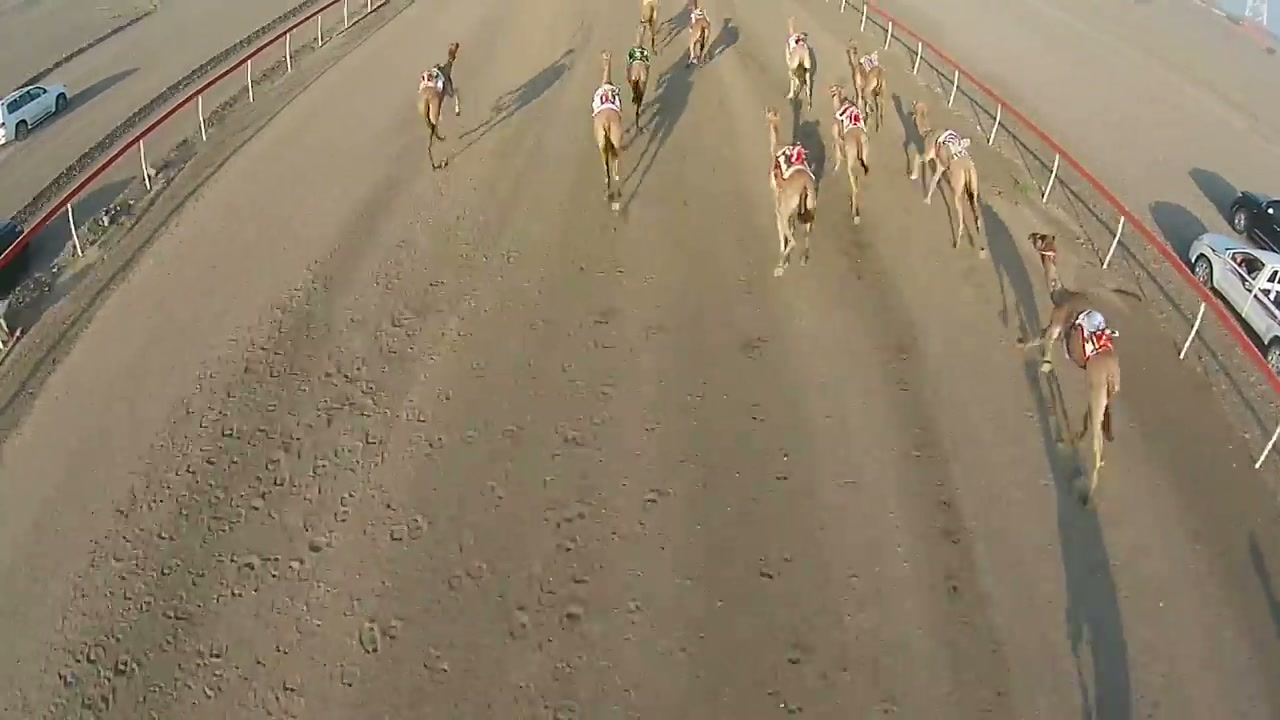animal_footprint: (38, 137, 449, 717), (484, 226, 799, 715), (702, 295, 1040, 644)
